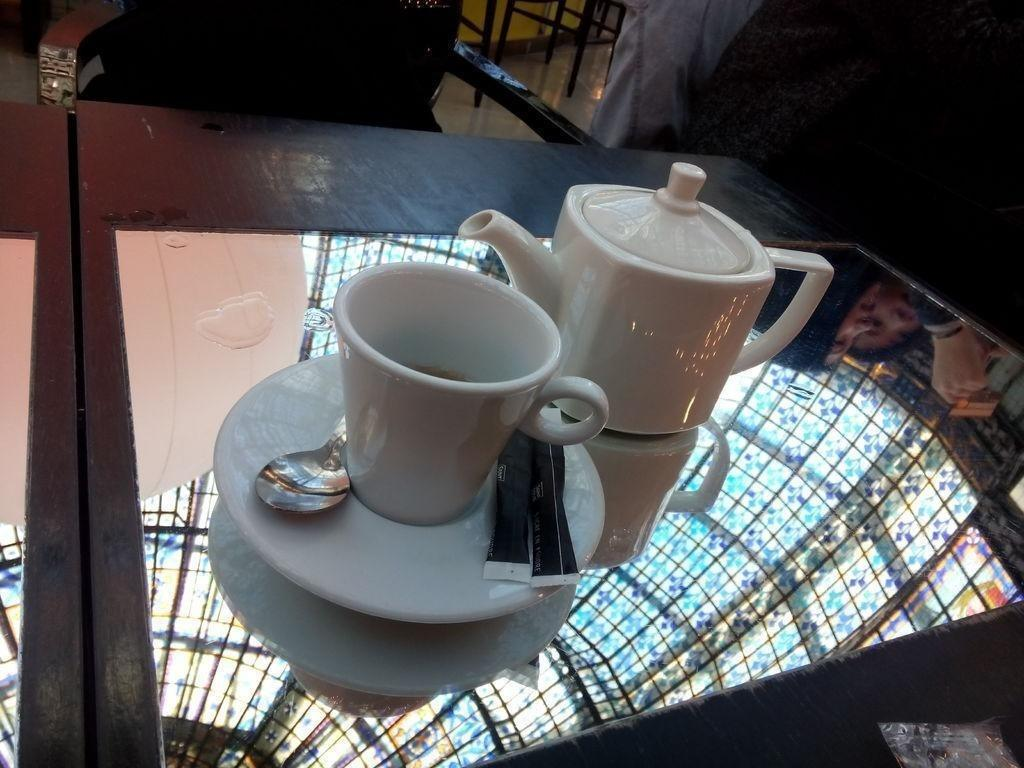cup-handle: (333, 263, 609, 522)
